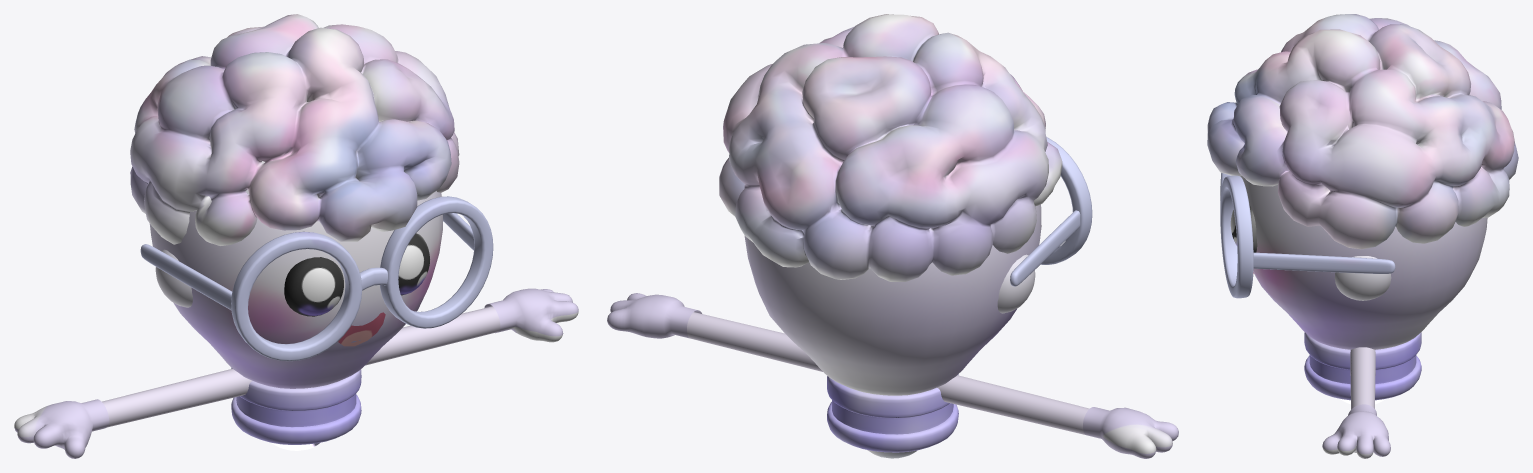
Rendered from original.glb.
The picture shows the model from 3 angles, left to right: view 1: azimuth 30°, elevation 25°; view 2: azimuth 150°, elevation 25°; view 3: azimuth 270°, elevation 25°; orthographic projection. The views are drawn at different scales.
Visible parts, largest first — view 1: polySurface1.002, polySurface1.003, polySurface1.004, acey_arms, polySurface1.007, polySurface1.005, polySurface1.006; view 2: polySurface1.002, polySurface1.003, acey_arms, polySurface1.007, polySurface1.004; view 3: polySurface1.002, polySurface1.003, polySurface1.004, polySurface1.007, acey_arms, polySurface1.005.
Part boxes in pixels (box(x1,y1,x2,y2)): polySurface1.002: box(130, 14, 459, 245); polySurface1.003: box(14, 161, 578, 458); polySurface1.004: box(140, 196, 493, 361); acey_arms: box(102, 306, 500, 427); polySurface1.007: box(231, 367, 361, 444); polySurface1.005: box(284, 233, 429, 316); polySurface1.006: box(338, 312, 385, 346); polySurface1.002: box(719, 14, 1062, 281); polySurface1.003: box(607, 204, 1178, 458); acey_arms: box(687, 312, 1089, 434); polySurface1.007: box(827, 374, 958, 452); polySurface1.004: box(1010, 137, 1092, 286); polySurface1.002: box(1207, 14, 1518, 249); polySurface1.003: box(1241, 176, 1487, 458); polySurface1.004: box(1220, 173, 1395, 298); polySurface1.007: box(1304, 332, 1421, 400); acey_arms: box(1350, 347, 1375, 409); polySurface1.005: box(1230, 204, 1257, 252).
Size of the model in its own units: 1.36 by 0.9846 by 0.7392.
Materials: 8 (7 with a texture image).
